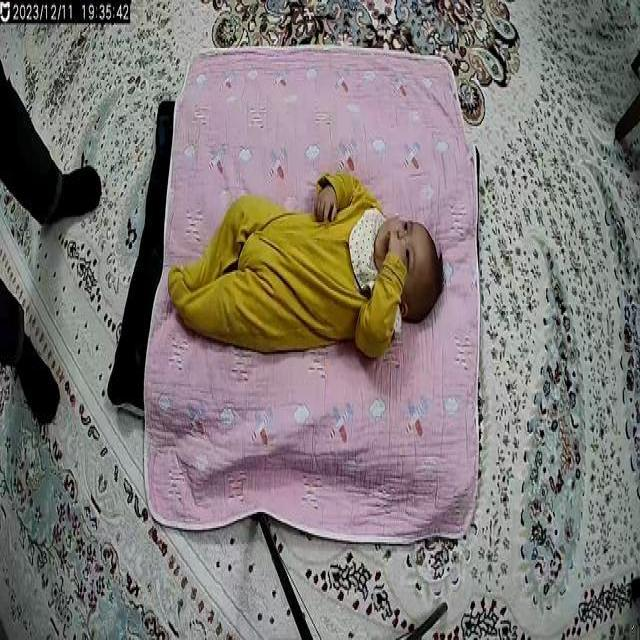baby: (166, 165, 443, 368)
